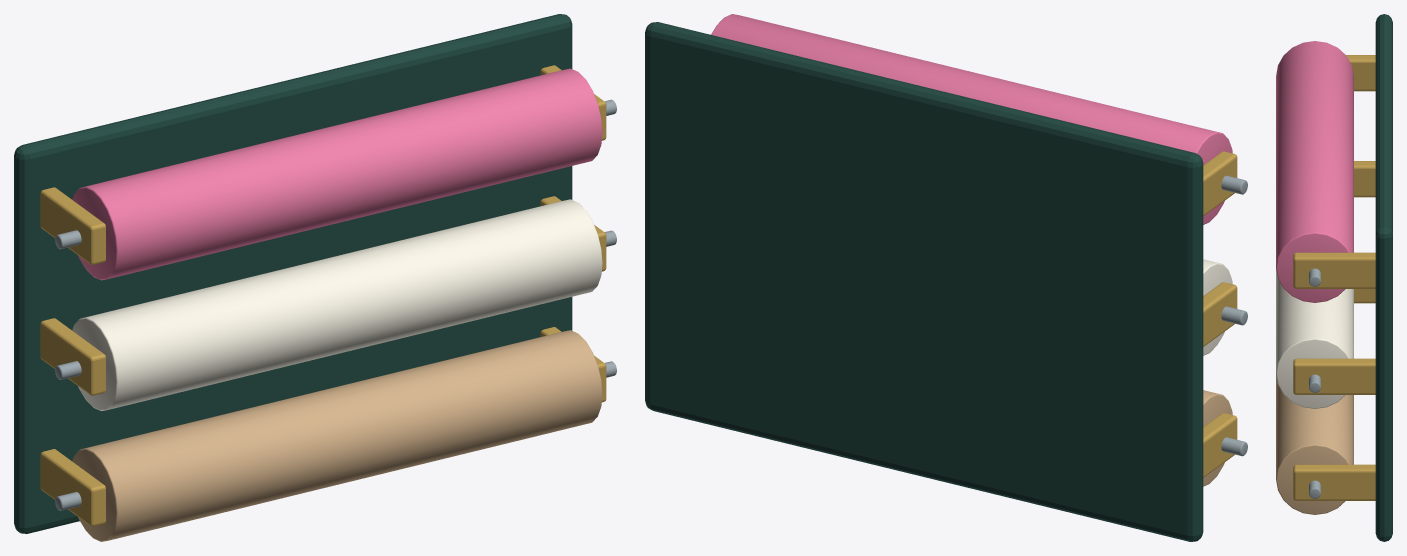
Rendered from paper_rack.glb.
3 views of the same model, side by side, from view 1: azimuth 30°, elevation 25°; view 2: azimuth 150°, elevation 25°; view 3: azimuth 270°, elevation 25° (orthographic). The views are drawn at different scales.
Parts seen in each view (by area): view 1: Wall_back, Paper, Paper.001, Paper.002, Spindle_bracket.004, Spindle_bracket.002, Spindle_bracket; view 2: Wall_back, Paper.002, Spindle_bracket, Spindle_bracket.004, Spindle_bracket.002, Paper.001, Paper; view 3: Paper.002, Wall_back, Paper, Paper.001, Spindle_bracket.005, Spindle_bracket.003, Spindle_bracket.001, Spindle_bracket.004, Spindle_bracket.002, Spindle_bracket, Axle, Axle.001 (+1 smaller).
Boxes of the visible parts, box(x1,y1,x2,y2) form: Wall_back: box(14, 14, 572, 533); Paper: box(72, 330, 602, 541); Paper.001: box(72, 199, 602, 410); Paper.002: box(72, 68, 602, 280); Spindle_bracket.004: box(40, 187, 105, 264); Spindle_bracket.002: box(40, 318, 105, 395); Spindle_bracket: box(40, 449, 105, 526); Wall_back: box(645, 22, 1203, 541); Paper.002: box(711, 14, 1232, 224); Spindle_bracket: box(1203, 413, 1237, 477); Spindle_bracket.004: box(1203, 151, 1237, 215); Spindle_bracket.002: box(1203, 282, 1237, 346); Paper.001: box(1203, 259, 1232, 355); Paper: box(1203, 390, 1232, 486); Paper.002: box(1276, 41, 1353, 302); Wall_back: box(1375, 14, 1392, 541); Paper: box(1276, 374, 1353, 514); Paper.001: box(1276, 268, 1353, 408); Spindle_bracket.005: box(1293, 252, 1375, 288); Spindle_bracket.003: box(1293, 358, 1375, 394); Spindle_bracket.001: box(1293, 464, 1375, 500); Spindle_bracket.004: box(1346, 55, 1375, 91); Spindle_bracket.002: box(1354, 161, 1375, 197); Spindle_bracket: box(1354, 289, 1375, 303); Axle: box(1309, 480, 1320, 498); Axle.001: box(1309, 374, 1320, 392).
Size of the model in its own units: 1.2 by 0.8 by 0.27.
